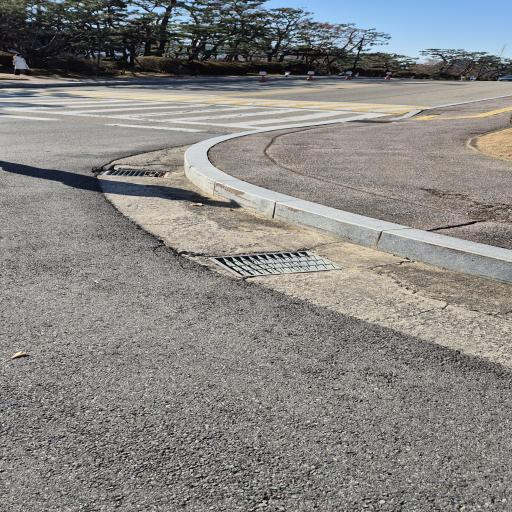drain: (209, 251, 345, 277)
